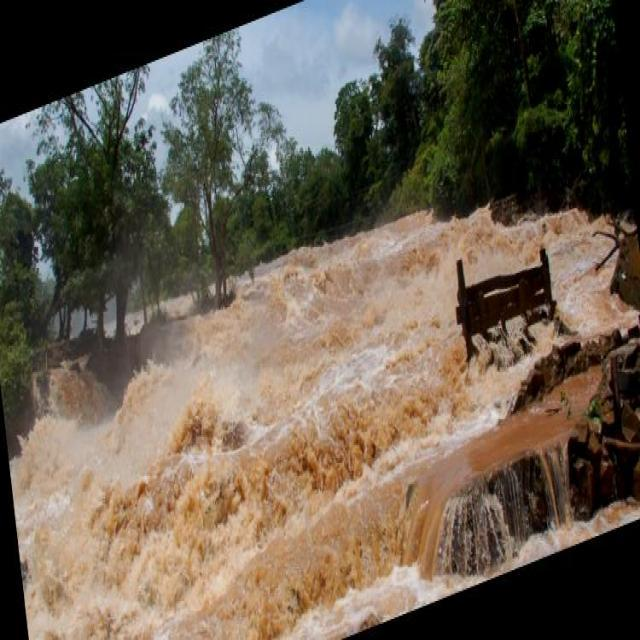flood: (0, 99, 639, 638)
